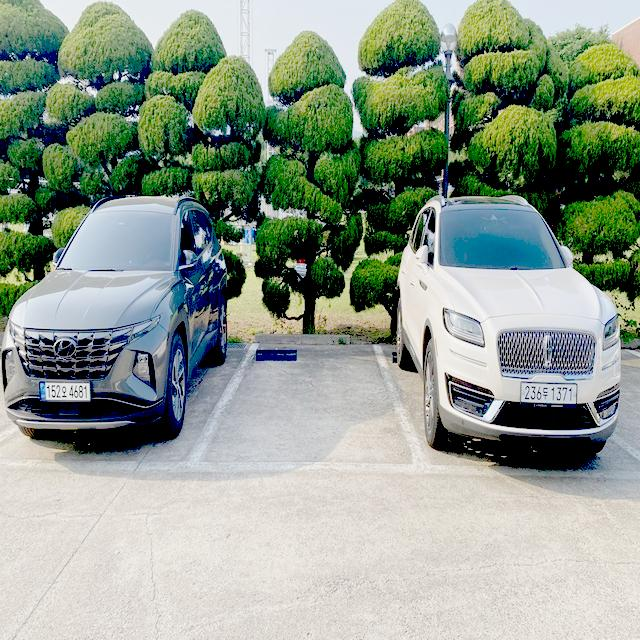empty: (180, 338, 438, 477)
occupied: (392, 193, 620, 449), (0, 197, 230, 443)
